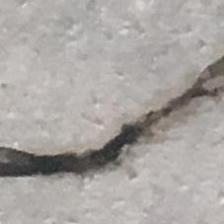Crack: (0, 51, 224, 192)
